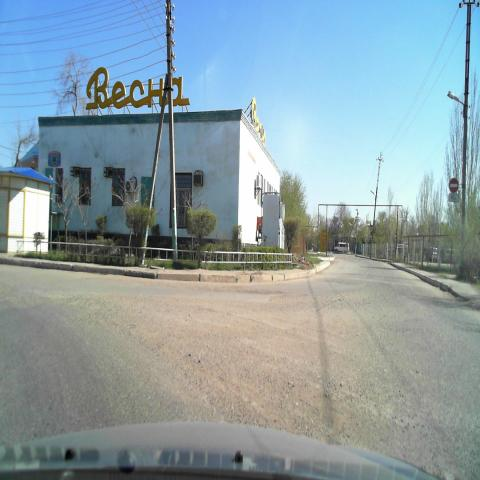3_1: (450, 178, 459, 194)
